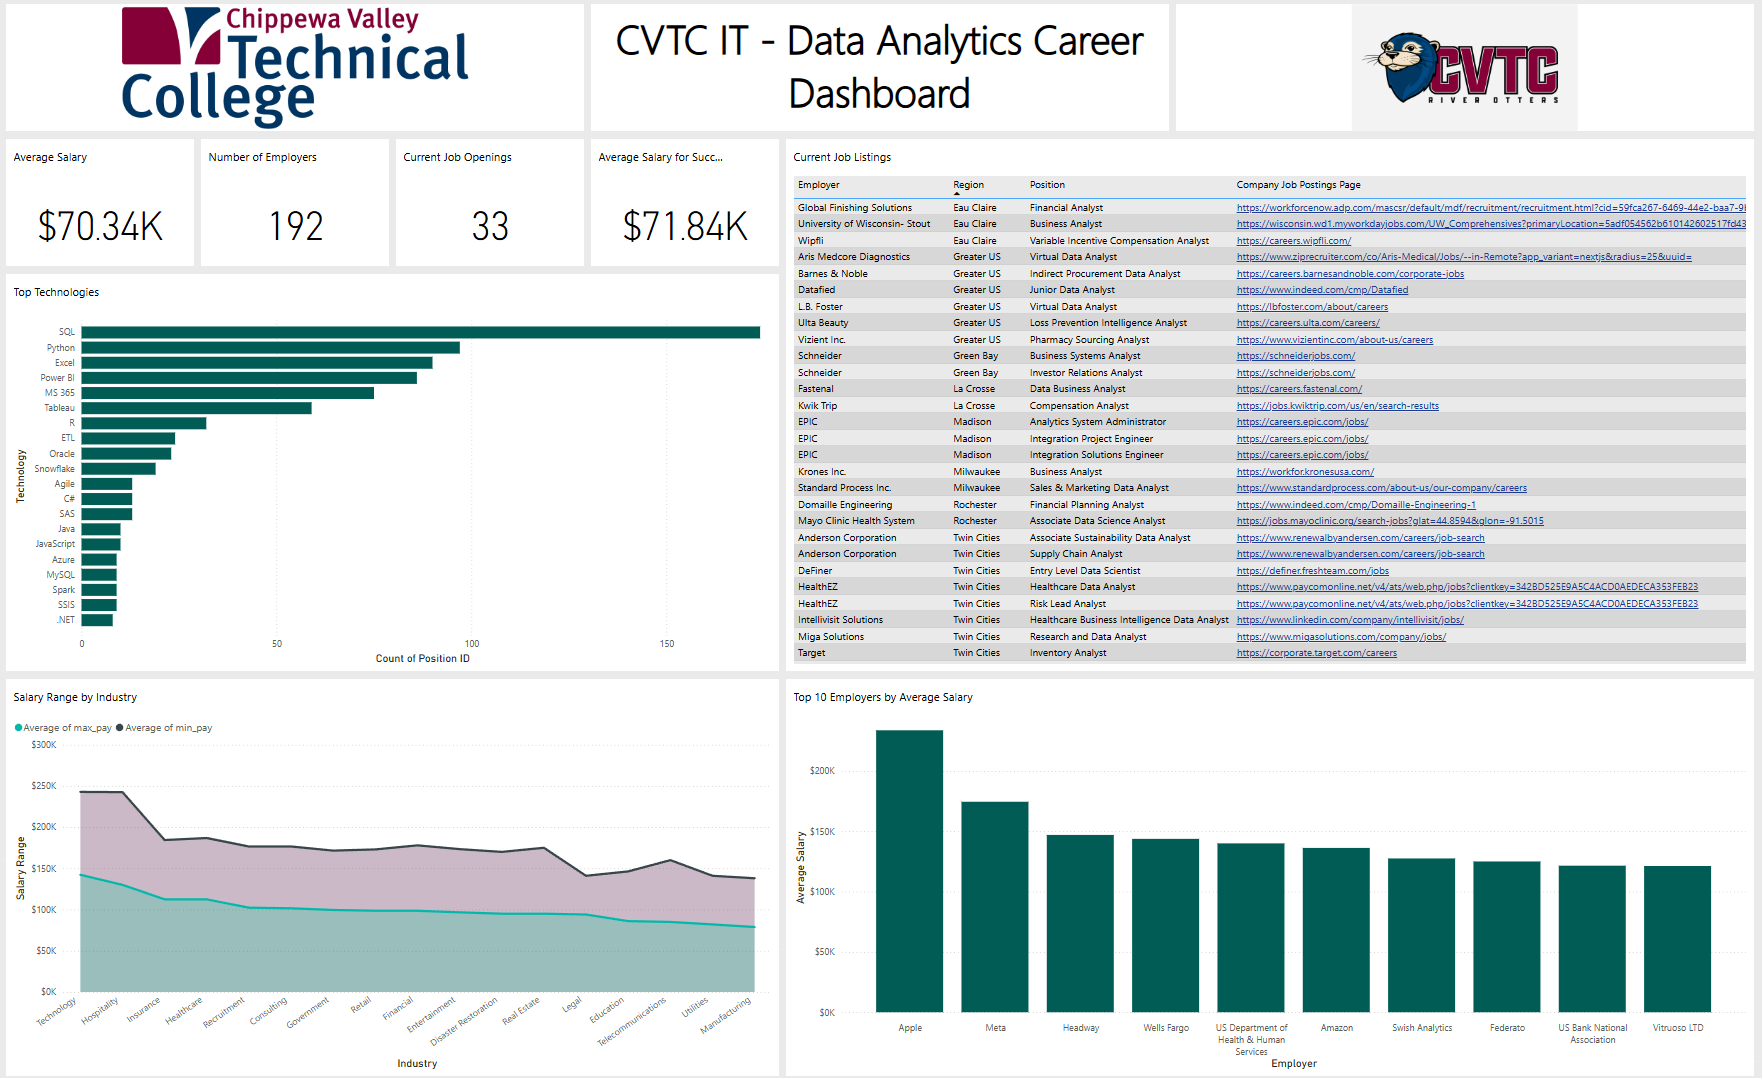

The dashboard page shown, as its layout file describes it:
{"tool":"powerbi","page":{"name":"Overview","canvas":[1280,720],"ordinal":0},"visuals":[{"type":"textbox","box":[317.1,21.4,644.9,66.1],"z":0},{"type":"card","title":"Number of Part-time Positions","fields":{"Values":["position_tbl.Part-time Positions"]},"box":[19.5,578.7,249,133.3],"z":1000},{"type":"image","box":[47.7,0,155.6,138.1],"z":2000},{"type":"image","box":[1003.8,0,276.2,149.8],"z":3000},{"type":"card","title":"Number of Remote Positions","fields":{"Values":["position_tbl.Remote Positions"]},"box":[19.5,438.7,249,125.5],"z":4000},{"type":"card","title":"Current Job Openings","fields":{"Values":["position_tbl.Current Openings Count"]},"box":[19.5,149.8,249,129.4],"z":5000},{"type":"card","title":"Average Salary","fields":{"Values":["position_tbl.Average Pay"]},"box":[19.5,294.7,249,129.4],"z":6000},{"type":"clusteredBarChart","fields":{"Category":["employer_tbl.Industry"],"Y":["position_tbl.Average Pay"]},"box":[755.7,445.5,496,266.5],"z":7000},{"type":"clusteredBarChart","title":"Top Technologies","fields":{"Category":["technology_tbl.technology"],"Y":["CountNonNull(technology_tbl.position_id)"]},"box":[286.9,149.8,457.1,280.1],"z":8000},{"type":"clusteredColumnChart","title":"Top 10 Industries","fields":{"Category":["employer_tbl.industry"],"Y":["position_tbl.Job Openings"]},"box":[755.7,149.8,496,280.1],"z":9000},{"type":"stackedAreaChart","title":"Salary Range by Industry","fields":{"Y":["Avg(position_tbl.max_pay)","Avg(position_tbl.min_pay)"],"Category":["employer_tbl.Industry"]},"box":[286.9,445.5,457.1,266.5],"z":10000}]}

Visuals, with their boxes on the page's 1280x720 design canvas (x1, y1, x2, y2). These are canvas units, not pixel positions in the 1762x1078 screenshot, which may show the page scaled, cropped or inside an application window:
textbox: <box>317,21,962,88</box>
"Number of Part-time Positions" card: <box>20,579,268,712</box>
image: <box>48,0,203,138</box>
image: <box>1004,0,1280,150</box>
"Number of Remote Positions" card: <box>20,439,268,564</box>
"Current Job Openings" card: <box>20,150,268,279</box>
"Average Salary" card: <box>20,295,268,424</box>
clusteredBarChart - employer_tbl.Industry x position_tbl.Average Pay: <box>756,446,1252,712</box>
"Top Technologies" clusteredBarChart: <box>287,150,744,430</box>
"Top 10 Industries" clusteredColumnChart: <box>756,150,1252,430</box>
"Salary Range by Industry" stackedAreaChart: <box>287,446,744,712</box>
